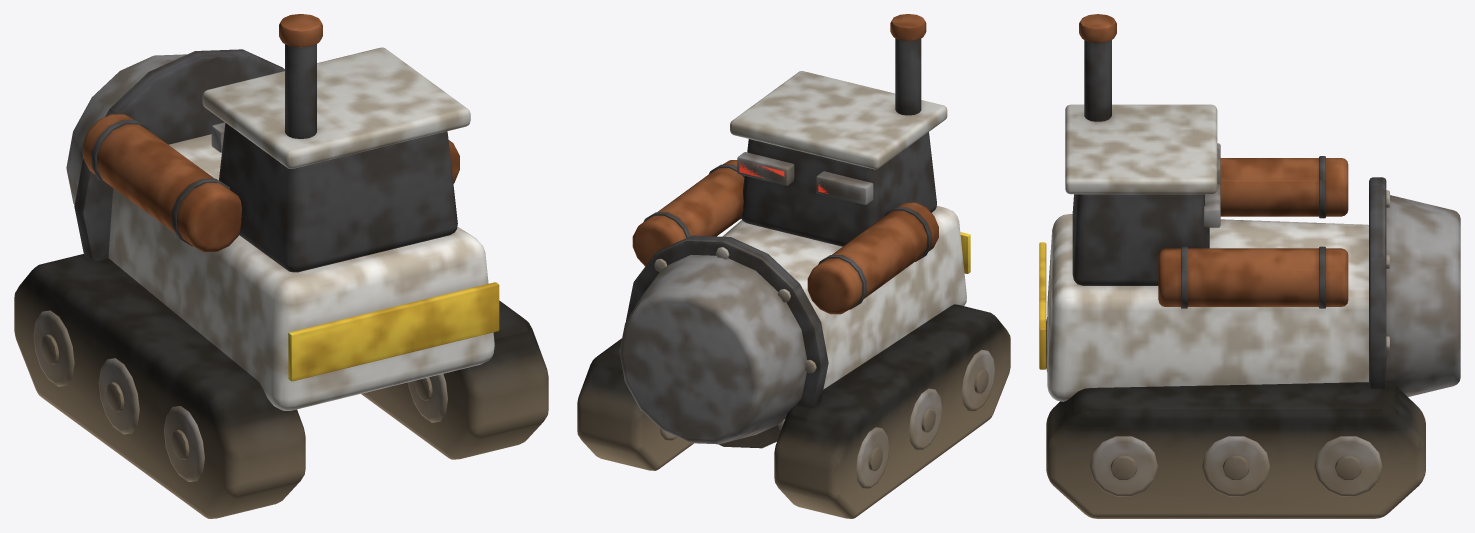
The model's file is driller.glb.
3 renders of one model, left to right at view 1: azimuth 30°, elevation 25°; view 2: azimuth 150°, elevation 25°; view 3: azimuth 270°, elevation 25°, orthographic. The views are drawn at different scales.
Parts seen in each view (by area): view 1: Driller; view 2: Driller; view 3: Driller.
Part boxes in pixels (x1,y1,x2,y2): Driller: (14, 14, 548, 518); Driller: (577, 14, 1010, 518); Driller: (1039, 14, 1460, 518).
Bounding box in the file's own units: 1.94 × 2.61 × 2.44.
Materials: 3 (3 with a texture image).
